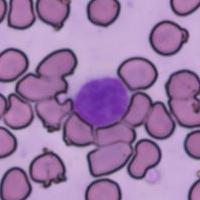L: (72, 73, 130, 127)
